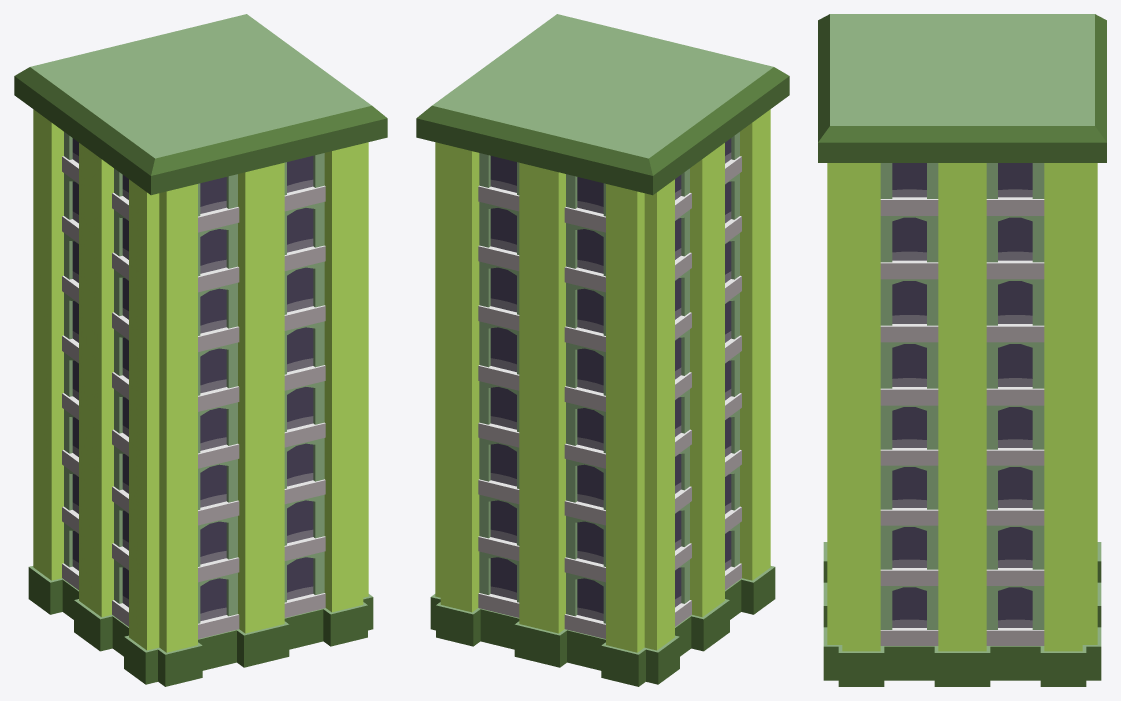
The model's file is building4_g.fbx.
3 renders of one model, left to right at view 1: azimuth 30°, elevation 25°; view 2: azimuth 150°, elevation 25°; view 3: azimuth 270°, elevation 25°, orthographic. The views are drawn at different scales.
Visible parts, largest first — view 1: pCube1, pCube2; view 2: pCube1, pCube2; view 3: pCube1, pCube2.
Boxes of the visible parts, bbox=[...] form: pCube1: bbox=[28, 109, 373, 686]; pCube2: bbox=[14, 14, 387, 195]; pCube1: bbox=[430, 109, 775, 686]; pCube2: bbox=[416, 14, 789, 195]; pCube1: bbox=[823, 163, 1101, 686]; pCube2: bbox=[818, 14, 1106, 162].
Bounding box in the file's own units: 7.05 × 15.03 × 7.05.
